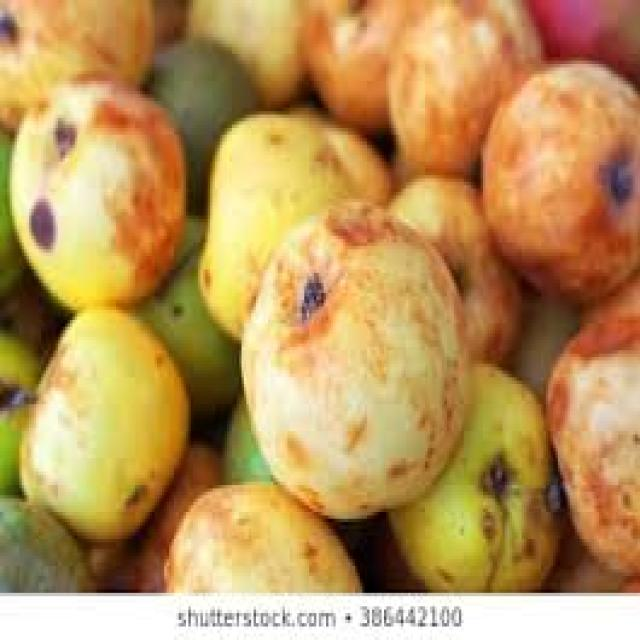biodegradable: (0, 0, 637, 589), (239, 199, 466, 519), (5, 67, 186, 310), (10, 303, 186, 542), (381, 361, 558, 590), (478, 54, 638, 303), (196, 108, 360, 337), (377, 172, 524, 367), (544, 290, 638, 576), (383, 0, 543, 168), (222, 381, 370, 556), (160, 472, 363, 590), (128, 209, 239, 418), (85, 438, 220, 589), (0, 0, 152, 128), (145, 41, 258, 206), (302, 0, 406, 128), (183, 0, 306, 104), (283, 101, 391, 212), (524, 0, 638, 91), (0, 491, 101, 586), (0, 320, 39, 502), (539, 522, 638, 586), (0, 124, 19, 296), (150, 0, 186, 40)
